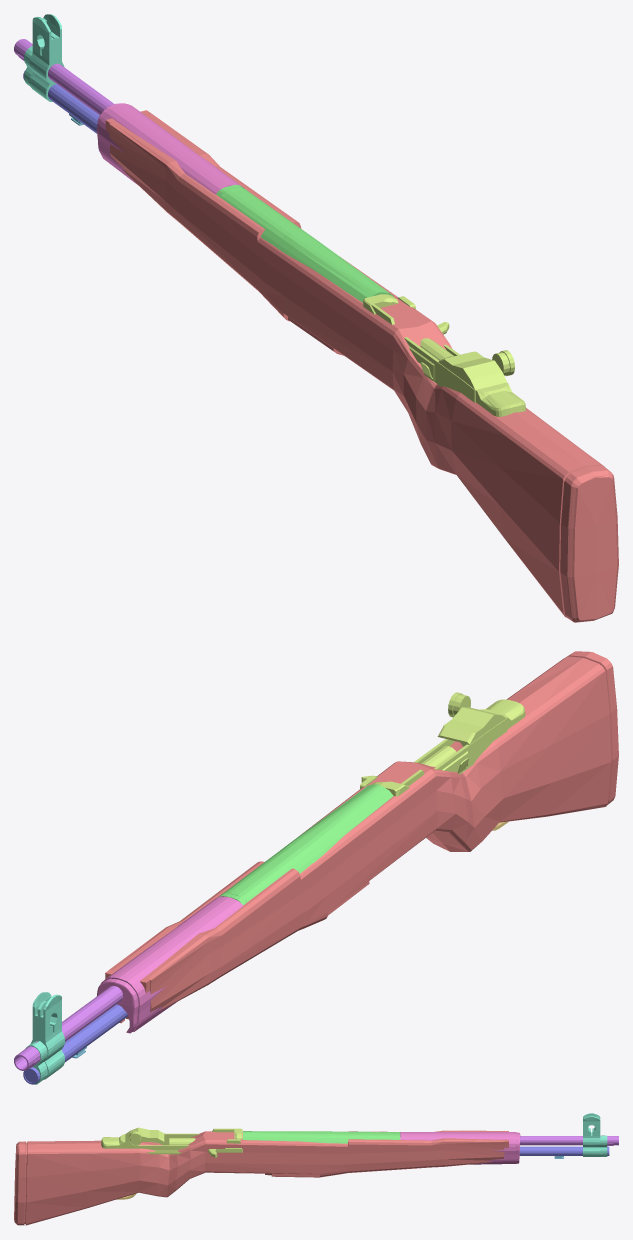
File: rifle_r.glb
The picture shows the model from 3 angles, top to bottom: view 1: azimuth 30°, elevation 25°; view 2: azimuth 150°, elevation 25°; view 3: azimuth 270°, elevation 25°; orthographic projection. The views are drawn at different scales.
Visible parts, largest first — view 1: Part_0, Part_2, Part_3, Part_8, Part_4, Part_7, Part_6; view 2: Part_0, Part_2, Part_3, Part_8, Part_4, Part_7, Part_6; view 3: Part_0, Part_2, Part_3, Part_8, Part_4, Part_7, Part_6.
Part boxes in pixels (x1=…): Part_0: x1=105, y1=110, x2=618, y2=622; Part_2: x1=363, y1=294, x2=525, y2=416; Part_3: x1=216, y1=185, x2=394, y2=302; Part_8: x1=96, y1=103, x2=243, y2=194; Part_4: x1=24, y1=14, x2=64, y2=101; Part_7: x1=14, y1=39, x2=114, y2=115; Part_6: x1=23, y1=70, x2=99, y2=133; Part_0: x1=105, y1=651, x2=618, y2=1023; Part_2: x1=360, y1=692, x2=525, y2=796; Part_3: x1=218, y1=784, x2=393, y2=905; Part_8: x1=96, y1=896, x2=243, y2=1033; Part_4: x1=25, y1=992, x2=64, y2=1084; Part_7: x1=14, y1=985, x2=123, y2=1070; Part_6: x1=23, y1=1004, x2=127, y2=1084; Part_0: x1=14, y1=1130, x2=508, y2=1225; Part_2: x1=101, y1=1127, x2=242, y2=1157; Part_3: x1=243, y1=1131, x2=400, y2=1143; Part_8: x1=400, y1=1132, x2=520, y2=1164; Part_4: x1=583, y1=1113, x2=607, y2=1156; Part_7: x1=520, y1=1136, x2=618, y2=1145; Part_6: x1=519, y1=1146, x2=609, y2=1155.
Bounding box in the file's own units: 0.1191 × 0.3317 × 1.69.
